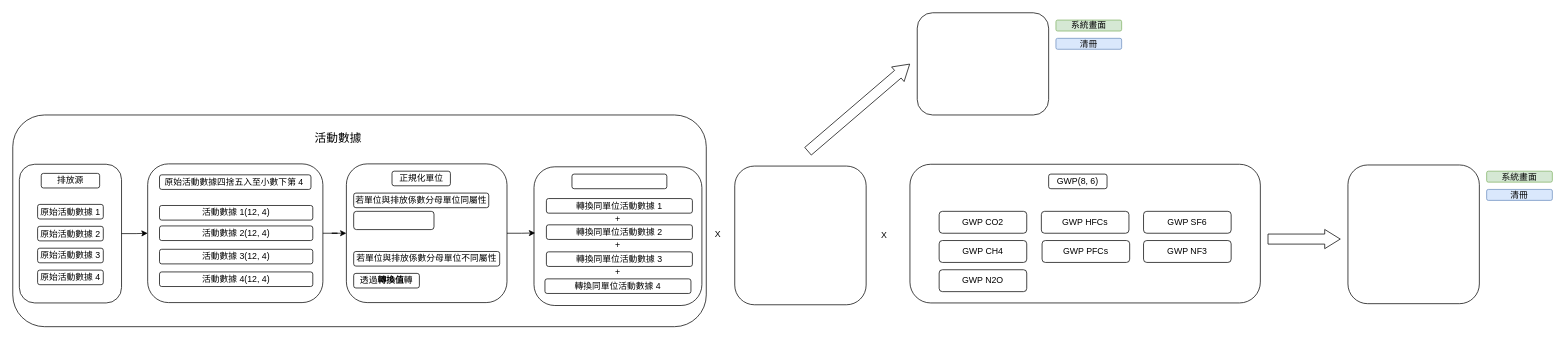
This 1565x339 diagram has some shape labels left out. Each missing label, with the centre of its shape:
"七大氣體個別排放量計算(10, 4) CO2 CH4 N2O HFCs PFCs SF6 NF3" goes at [983,63].
"二氧化碳排放當量(13, 3)" goes at [1413,234].
"排放係數(6, 10)" goes at [800,235].
"活動數據加總" goes at [619,181].
"透過 單位轉換值 轉" goes at [393,220].
